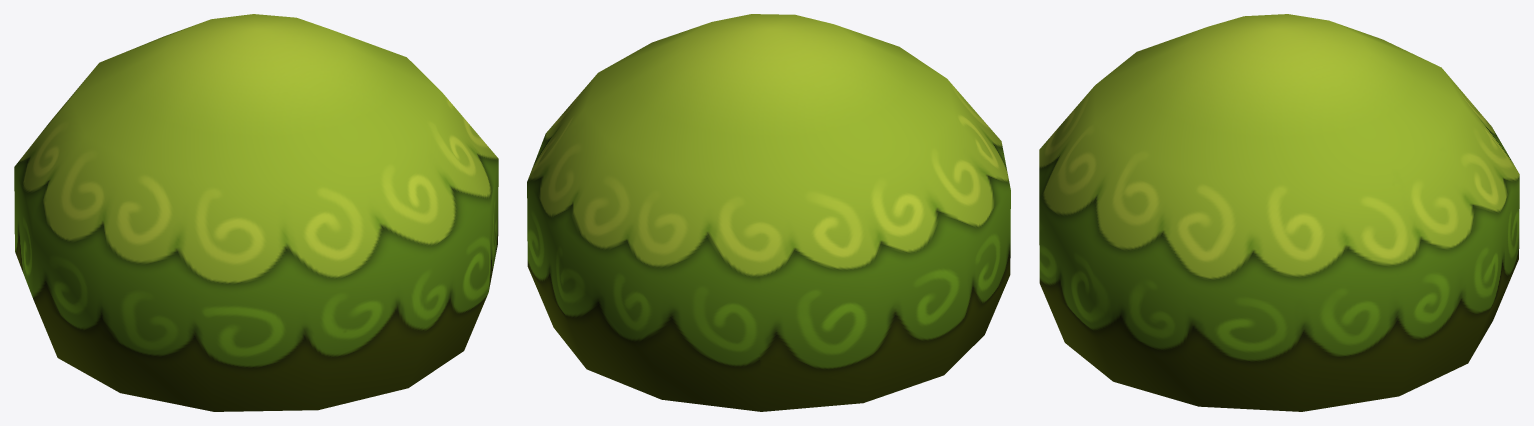
Rendered from Bush.FBX.
3 renders of one model, left to right at view 1: azimuth 30°, elevation 25°; view 2: azimuth 150°, elevation 25°; view 3: azimuth 270°, elevation 25°, orthographic.
Parts seen in each view (by area): view 1: Bush; view 2: Bush; view 3: Bush.
Part boxes in pixels (x1,y1,x2,y2): Bush: (14,14,498,411); Bush: (527,14,1010,411); Bush: (1039,14,1519,411).
Bounding box in the file's own units: 65.15 × 43.13 × 64.68.
1 material, 1 textured.
